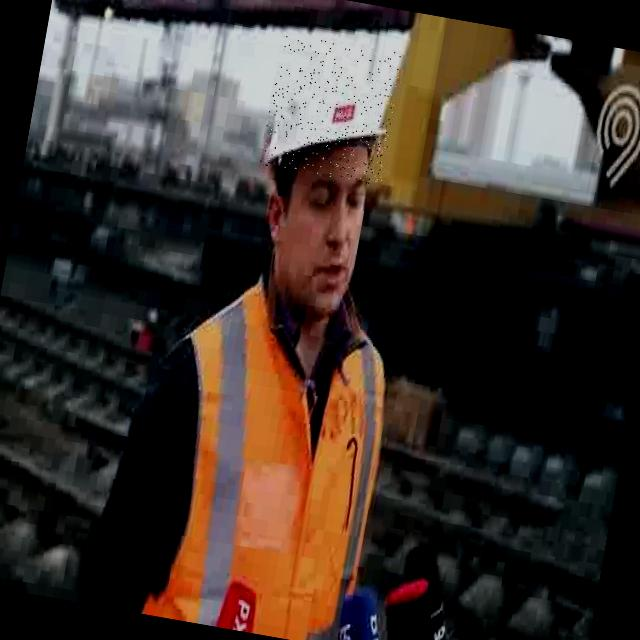helmet: (260, 33, 404, 186)
vest: (118, 255, 409, 640)
